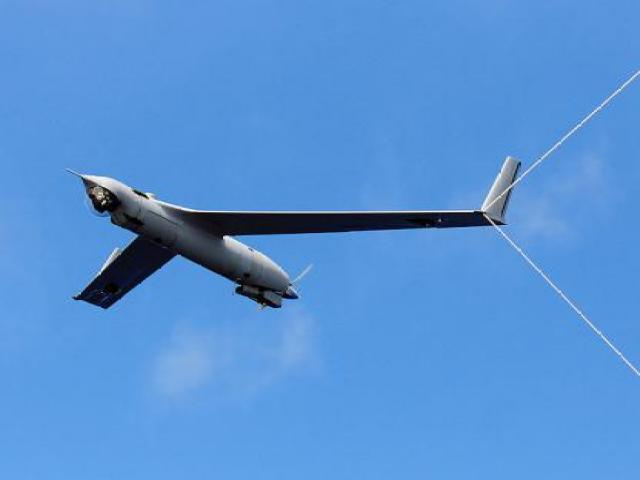uav: (69, 156, 522, 310)
